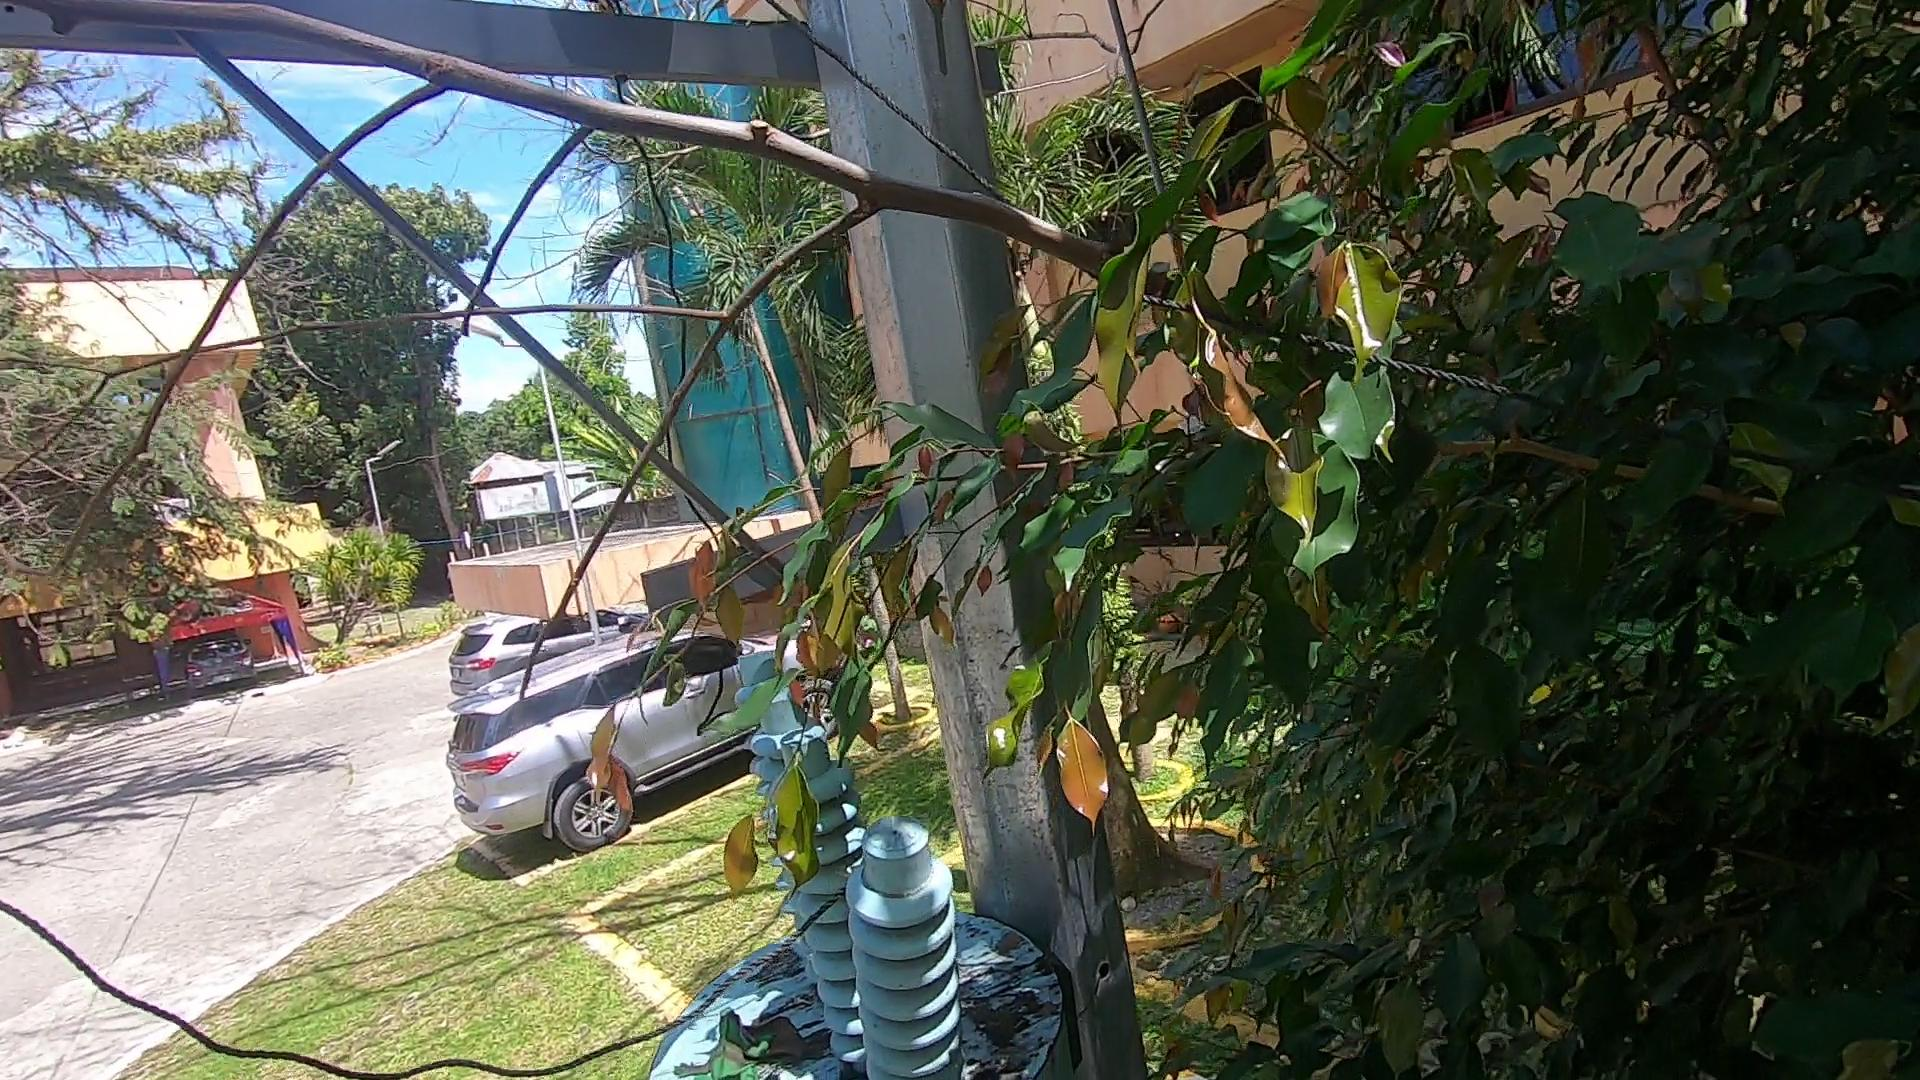leaf: (748, 1002, 816, 1059)
tree branch: (1, 1, 1319, 735)
